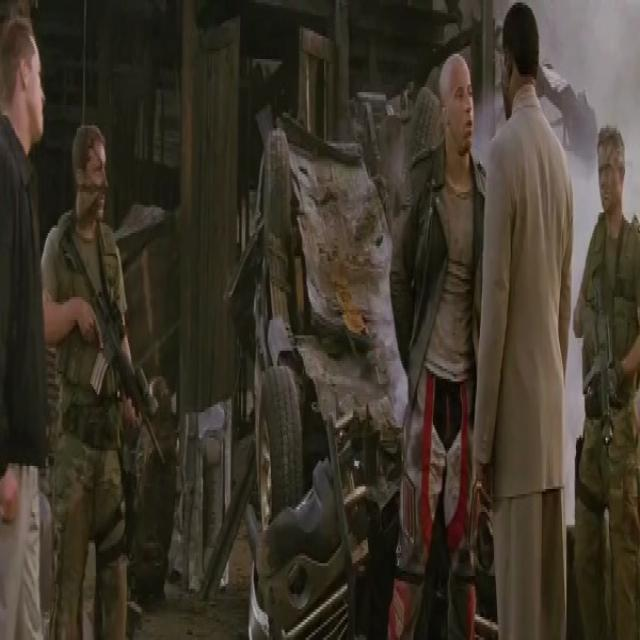rifle: (60, 228, 169, 475)
